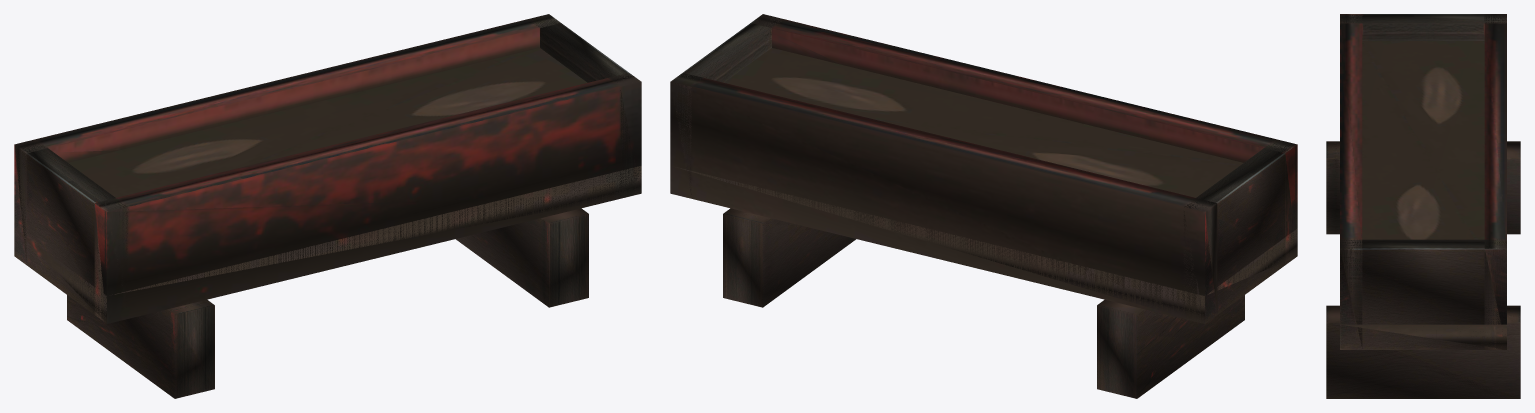
Rendered from trough.glb.
3 views of the same model, side by side, from view 1: azimuth 30°, elevation 25°; view 2: azimuth 150°, elevation 25°; view 3: azimuth 270°, elevation 25° (orthographic). The views are drawn at different scales.
Parts seen in each view (by area): view 1: trough; view 2: trough; view 3: trough.
Boxes of the visible parts, x1=… form: trough: x1=14, y1=14, x2=641, y2=398; trough: x1=670, y1=14, x2=1297, y2=398; trough: x1=1326, y1=14, x2=1520, y2=398.
Bounding box in the file's own units: 2 × 0.7 × 0.7.
Materials: 1 (1 with a texture image).
